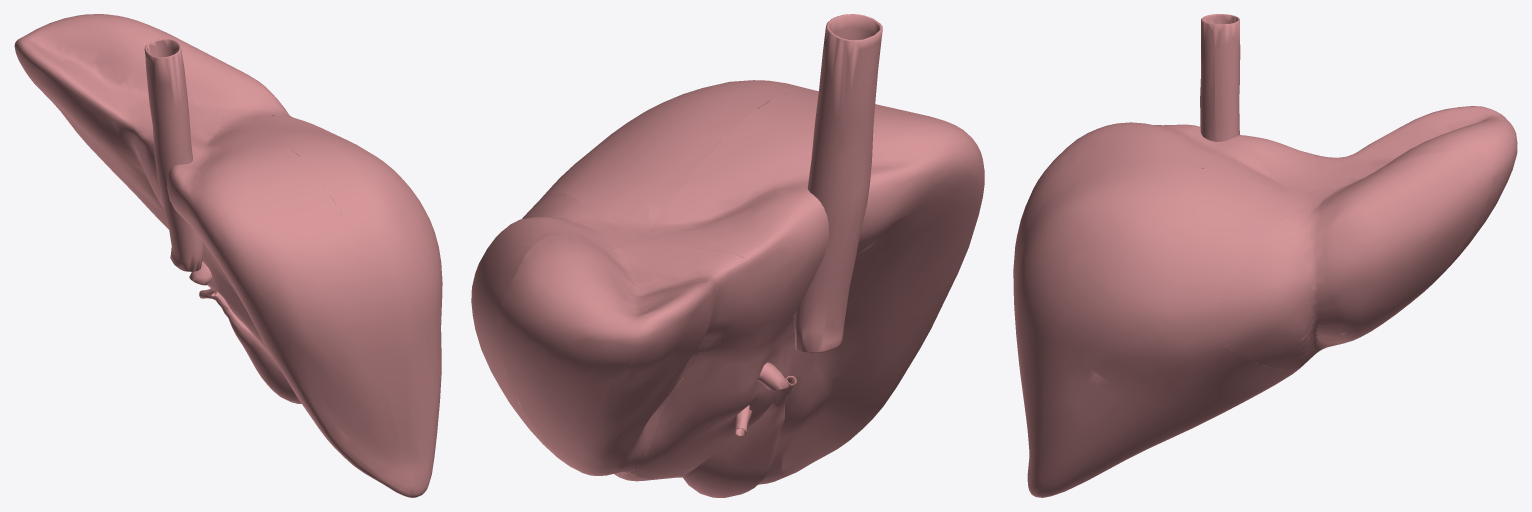
The model's file is new liver2.glb.
The picture shows the model from 3 angles, left to right: view 1: azimuth 30°, elevation 25°; view 2: azimuth 150°, elevation 25°; view 3: azimuth 270°, elevation 25°; orthographic projection. The views are drawn at different scales.
Visible parts, largest first — view 1: hepatic artery.001_Material_0; view 2: hepatic artery.001_Material_0; view 3: hepatic artery.001_Material_0.
Boxes of the visible parts, x1,y1,x2,y2 form: hepatic artery.001_Material_0: (14,14,442,497); hepatic artery.001_Material_0: (471,14,984,497); hepatic artery.001_Material_0: (1013,14,1517,497).
Size of the model in its own units: 0.1363 by 0.2221 by 0.2515.
